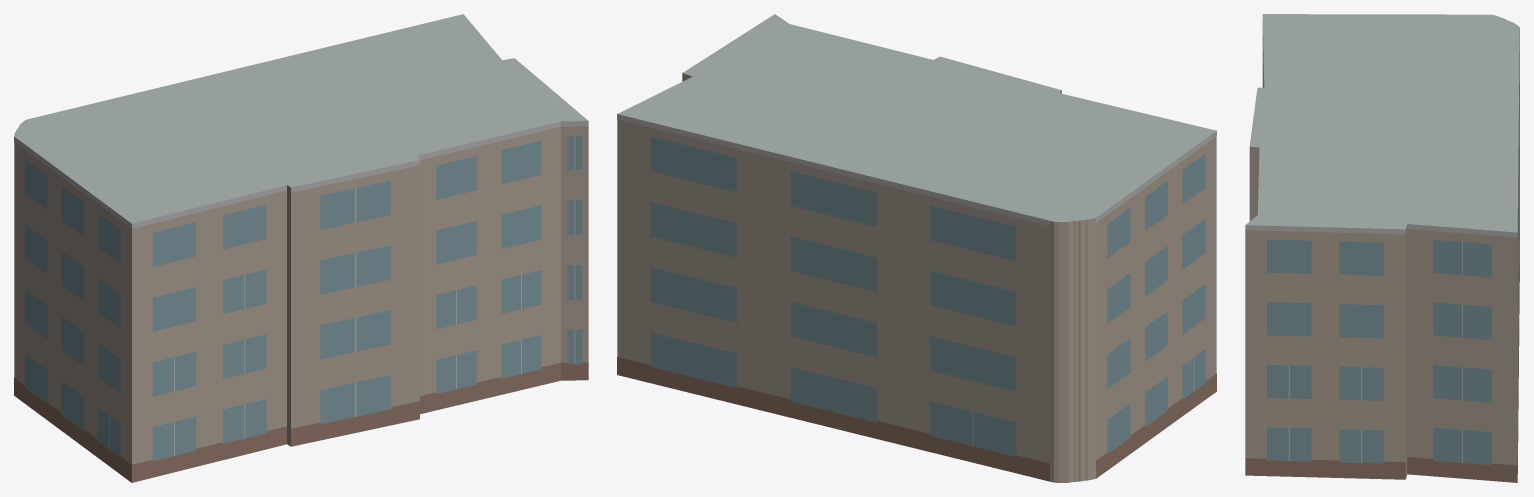
The model's file is survey-upis-32823787.glb.
3 renders of one model, left to right at view 1: azimuth 30°, elevation 25°; view 2: azimuth 150°, elevation 25°; view 3: azimuth 270°, elevation 25°, orthographic. The views are drawn at different scales.
Parts seen in each view (by area): view 1: survey-upis-32823787.tmp; view 2: survey-upis-32823787.tmp; view 3: survey-upis-32823787.tmp.
Boxes of the visible parts, x1,y1,x2,y2 form: survey-upis-32823787.tmp: (14, 14, 588, 482); survey-upis-32823787.tmp: (617, 14, 1216, 482); survey-upis-32823787.tmp: (1245, 14, 1519, 482).
Bounding box in the file's own units: 22.48 × 12 × 11.93.
